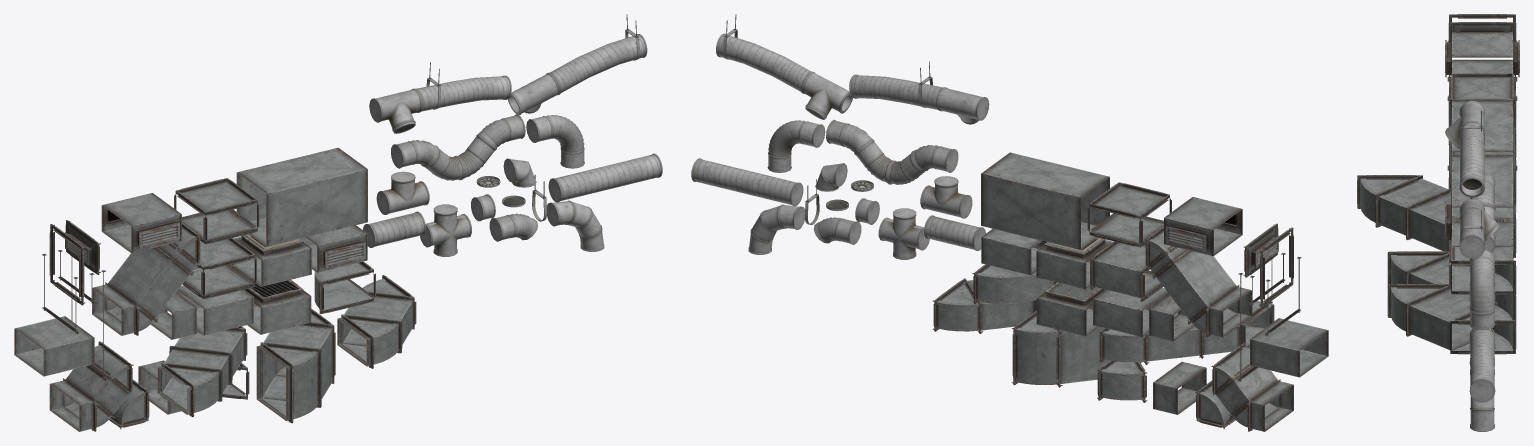
Rendered from poppy_playtime_chapter_3__duct_pipes.glb.
3 views of the same model, side by side, from view 1: azimuth 30°, elevation 25°; view 2: azimuth 150°, elevation 25°; view 3: azimuth 270°, elevation 25° (orthographic). The views are drawn at different scales.
Parts seen in each view (by area): view 1: SM_Duct_L_2m_A.mo, SM_DuctRoundSet_Bent.mo, SM_Duct_L_Skew_1m.mo, SM_Duct_M_Skew_1m_A.mo, SM_Duct_M_Skew_150m_B.mo, SM_Duct_M_Skew_1m_B.mo, SM_Duct_M_Skew_150m_A.mo, SM_DuctRound_Bent.mo, SM_Duct_M_4way.mo, SM_Duct_M_Vent_D.mo, SM_Duct_M_1m_B.mo, SM_Duct_M_3way.mo (+18 smaller); view 2: SM_Duct_L_2m_A.mo, SM_DuctRoundSet_Bent.mo, SM_Duct_M_Skew_1m_A.mo, SM_Duct_L_Skew_1m.mo, SM_Duct_M_Skew_150m_A.mo, SM_Duct_M_Skew_150m_B.mo, SM_DuctRound_Bent.mo, SM_Duct_M_4way.mo, SM_Duct_M_Vent_D.mo, SM_Duct_M_1m_B.mo, SM_Duct_M_Skew_1m_B.mo, SM_Duct_M_3way.mo (+19 smaller); view 3: SM_Duct_M_Skew_1m_B.mo, SM_Duct_M_Skew_150m_B.mo, SM_DuctRoundSet_Bent.mo, SM_Duct_L_2m_A.mo, SM_Duct_M_Vent_D.mo, SM_Duct_L_Skew_1m.mo, SM_Duct_M_4way.mo, SM_DuctRound_Corner_B.mo, SM_Duct_M_Corner_B.mo, SM_DuctRound_2m.mo, SM_Duct_M_Vent_C.mo, SM_DuctRound_Corner_A.mo (+5 smaller).
Boxes of the visible parts, left/top/right/bottom form: SM_Duct_L_2m_A.mo: left=236, top=147, right=367, bottom=246; SM_DuctRoundSet_Bent.mo: left=369, top=14, right=647, bottom=133; SM_Duct_L_Skew_1m.mo: left=256, top=308, right=335, bottom=423; SM_Duct_M_Skew_1m_A.mo: left=92, top=223, right=201, bottom=335; SM_Duct_M_Skew_150m_B.mo: left=157, top=326, right=247, bottom=417; SM_Duct_M_Skew_1m_B.mo: left=337, top=275, right=416, bottom=368; SM_Duct_M_Skew_150m_A.mo: left=49, top=341, right=133, bottom=431; SM_DuctRound_Bent.mo: left=391, top=114, right=525, bottom=180; SM_Duct_M_4way.mo: left=174, top=178, right=259, bottom=244; SM_Duct_M_Vent_D.mo: left=101, top=193, right=181, bottom=253; SM_Duct_M_1m_B.mo: left=14, top=316, right=94, bottom=376; SM_Duct_M_3way.mo: left=182, top=238, right=256, bottom=299; SM_Duct_L_2m_A.mo: left=981, top=152, right=1109, bottom=249; SM_DuctRoundSet_Bent.mo: left=716, top=14, right=989, bottom=124; SM_Duct_M_Skew_1m_A.mo: left=1145, top=226, right=1252, bottom=337; SM_Duct_L_Skew_1m.mo: left=1012, top=311, right=1141, bottom=387; SM_Duct_M_Skew_150m_A.mo: left=1211, top=343, right=1293, bottom=431; SM_Duct_M_Skew_150m_B.mo: left=1099, top=301, right=1274, bottom=364; SM_DuctRound_Bent.mo: left=826, top=119, right=958, bottom=184; SM_Duct_M_4way.mo: left=1087, top=182, right=1171, bottom=247; SM_Duct_M_Vent_D.mo: left=1164, top=197, right=1242, bottom=256; SM_Duct_M_1m_B.mo: left=1250, top=318, right=1328, bottom=377; SM_Duct_M_Skew_1m_B.mo: left=932, top=278, right=1036, bottom=333; SM_Duct_M_3way.mo: left=1089, top=241, right=1163, bottom=301; SM_Duct_M_Skew_1m_B.mo: left=1387, top=284, right=1516, bottom=354; SM_Duct_M_Skew_150m_B.mo: left=1357, top=175, right=1516, bottom=257; SM_DuctRoundSet_Bent.mo: left=1445, top=100, right=1499, bottom=258; SM_Duct_L_2m_A.mo: left=1449, top=100, right=1515, bottom=207; SM_Duct_M_Vent_D.mo: left=1445, top=32, right=1519, bottom=77; SM_Duct_L_Skew_1m.mo: left=1387, top=251, right=1516, bottom=324; SM_Duct_M_4way.mo: left=1449, top=73, right=1515, bottom=127; SM_DuctRound_Corner_B.mo: left=1469, top=249, right=1495, bottom=330; SM_Duct_M_Corner_B.mo: left=1448, top=237, right=1516, bottom=294; SM_DuctRound_2m.mo: left=1469, top=329, right=1495, bottom=402; SM_Duct_M_Vent_C.mo: left=1445, top=202, right=1514, bottom=247; SM_DuctRound_Corner_A.mo: left=1469, top=359, right=1494, bottom=431.
Bounding box in the file's own units: 12.34 × 5.34 × 2.67.
Materials: 2 (2 with a texture image).
